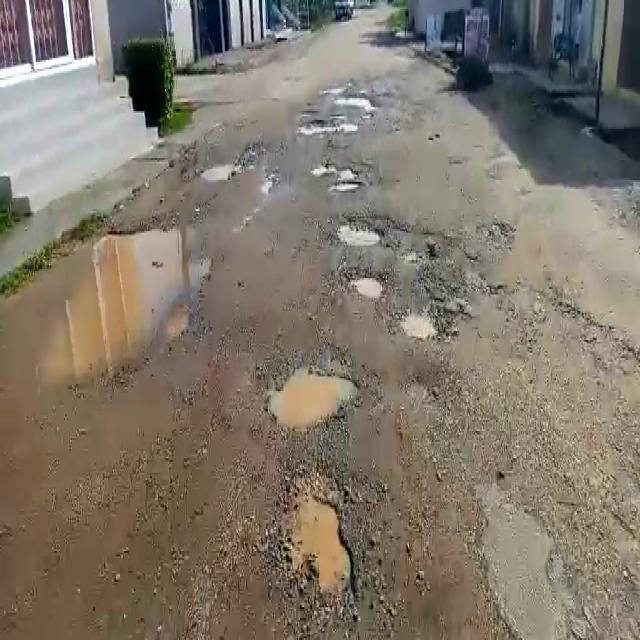Pothole: (0, 225, 183, 388), (277, 472, 361, 605), (269, 362, 366, 429), (333, 215, 388, 248), (312, 162, 365, 195), (339, 266, 388, 300), (294, 113, 349, 137), (400, 309, 437, 341), (199, 160, 238, 183), (332, 90, 374, 111)
